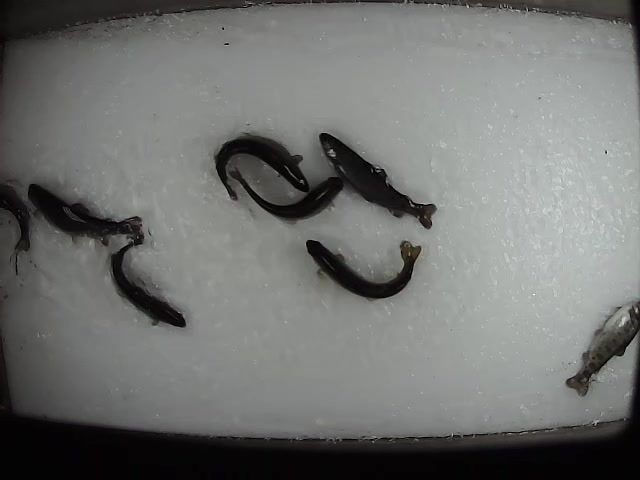fish: (314, 129, 440, 232), (302, 228, 424, 301), (28, 180, 148, 245), (563, 299, 640, 399), (222, 163, 344, 225), (107, 237, 189, 327), (211, 130, 312, 203)
